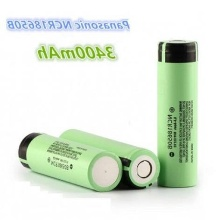battery: (153, 35, 202, 191), (16, 127, 125, 195), (54, 125, 161, 192)
